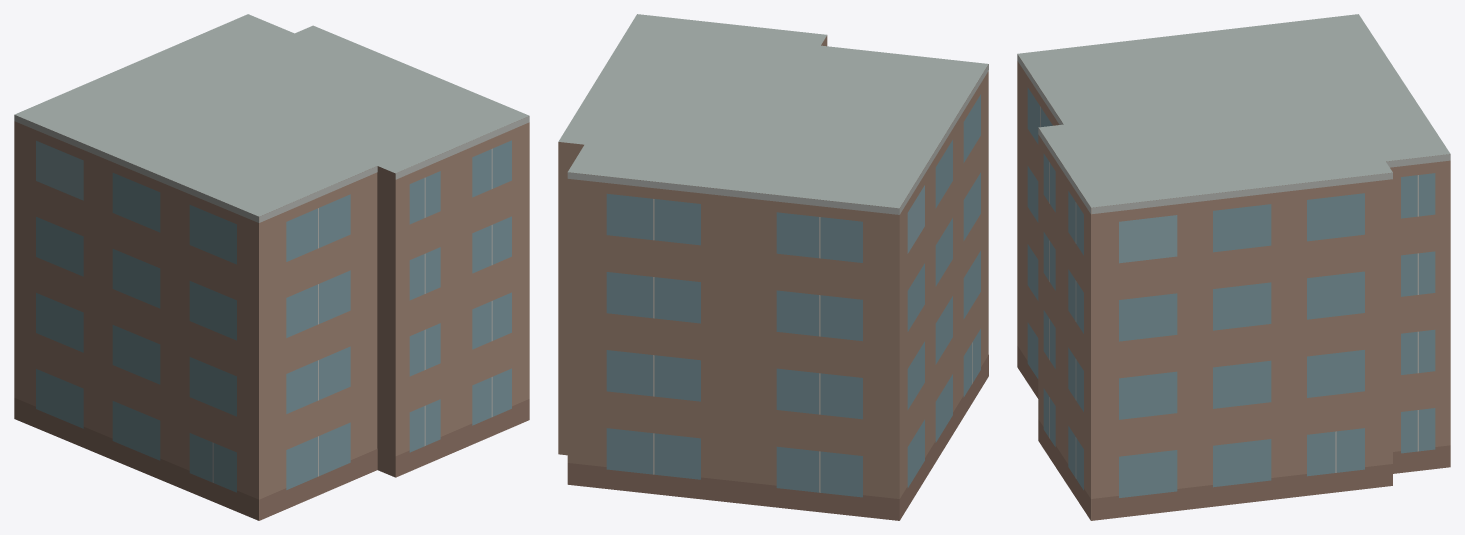
File: survey-upis-32611572.glb
3 renders of one model, left to right at view 1: azimuth 30°, elevation 25°; view 2: azimuth 150°, elevation 25°; view 3: azimuth 270°, elevation 25°, orthographic. The views are drawn at different scales.
Parts seen in each view (by area): view 1: survey-upis-32611572.tmp; view 2: survey-upis-32611572.tmp; view 3: survey-upis-32611572.tmp.
Part boxes in pixels (x1=…): survey-upis-32611572.tmp: x1=14, y1=14, x2=529, y2=520; survey-upis-32611572.tmp: x1=558, y1=14, x2=988, y2=520; survey-upis-32611572.tmp: x1=1017, y1=14, x2=1450, y2=520.
Size of the model in its own units: 15.3 by 11.53 by 14.47.
